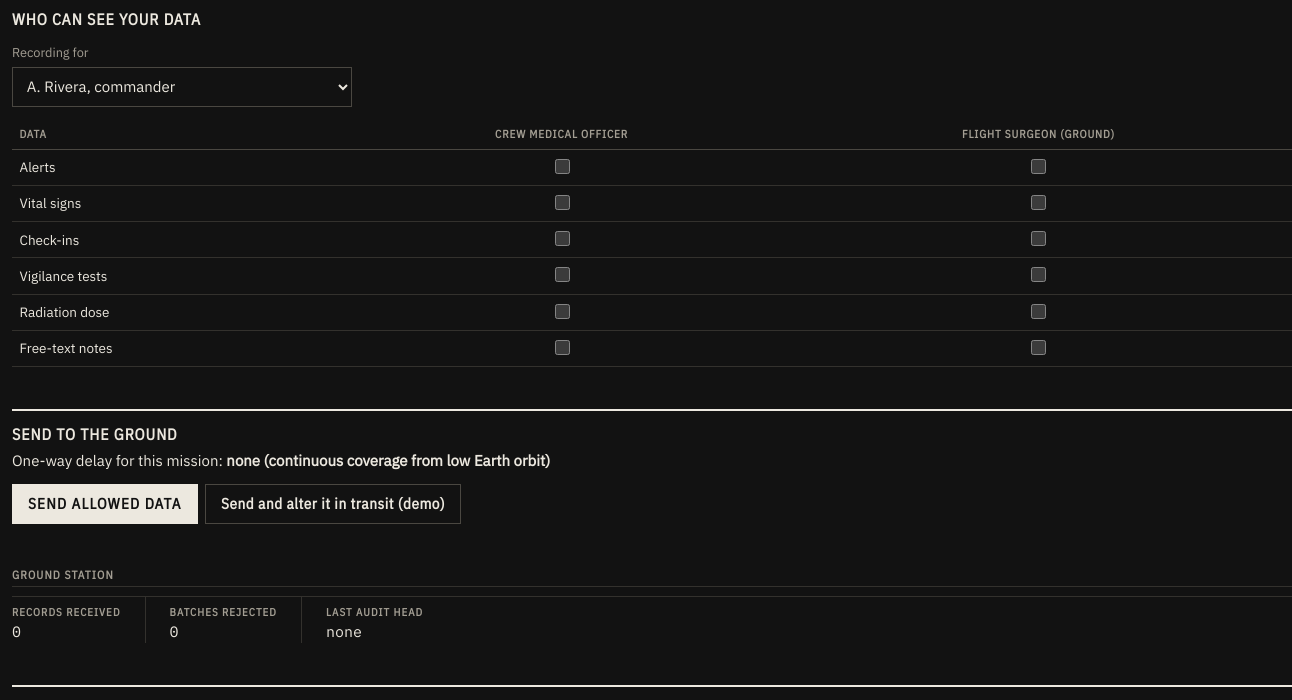
Test: privacy and sync › sends allowed data, which the ground verifies, and audits every step
Click the checkbox named "Share Check-ins with Flight surgeon (ground)".
click(1039, 239)  # box top-left (1031, 231), bottom-right (1046, 246)
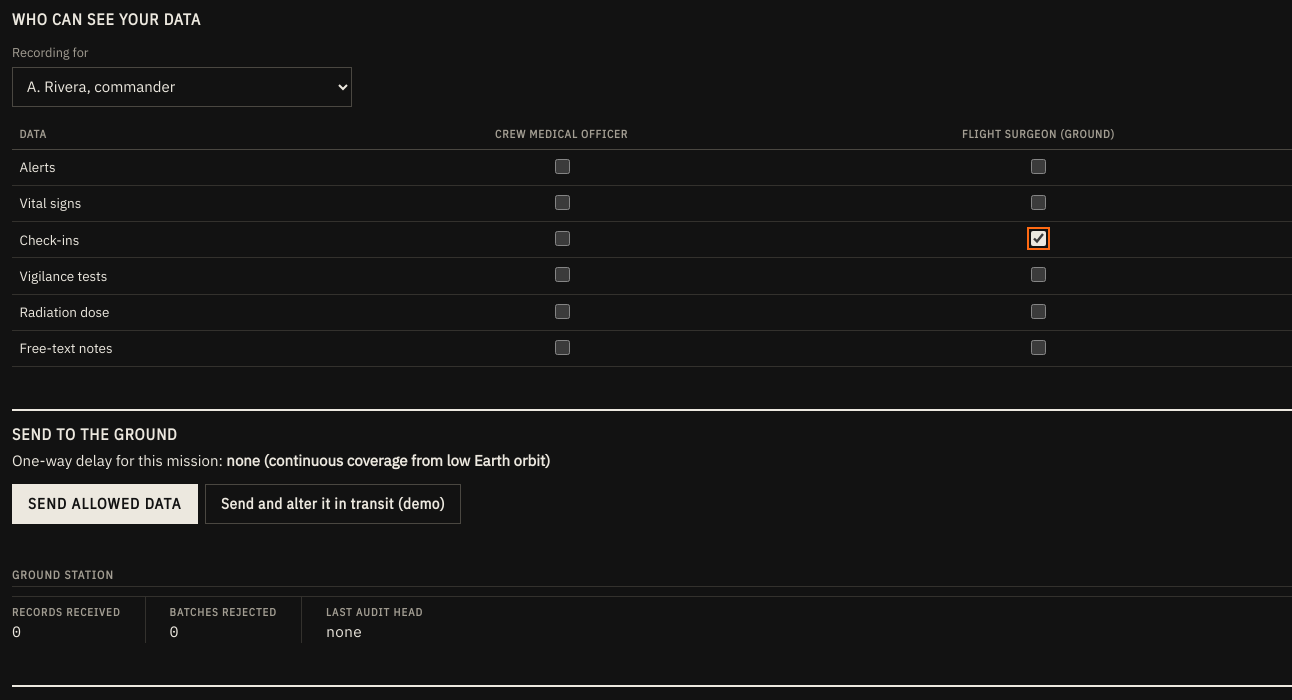
Click the button "Send allowed data".
click(105, 504)  # box top-left (12, 484), bottom-right (198, 524)
(page scrolled)
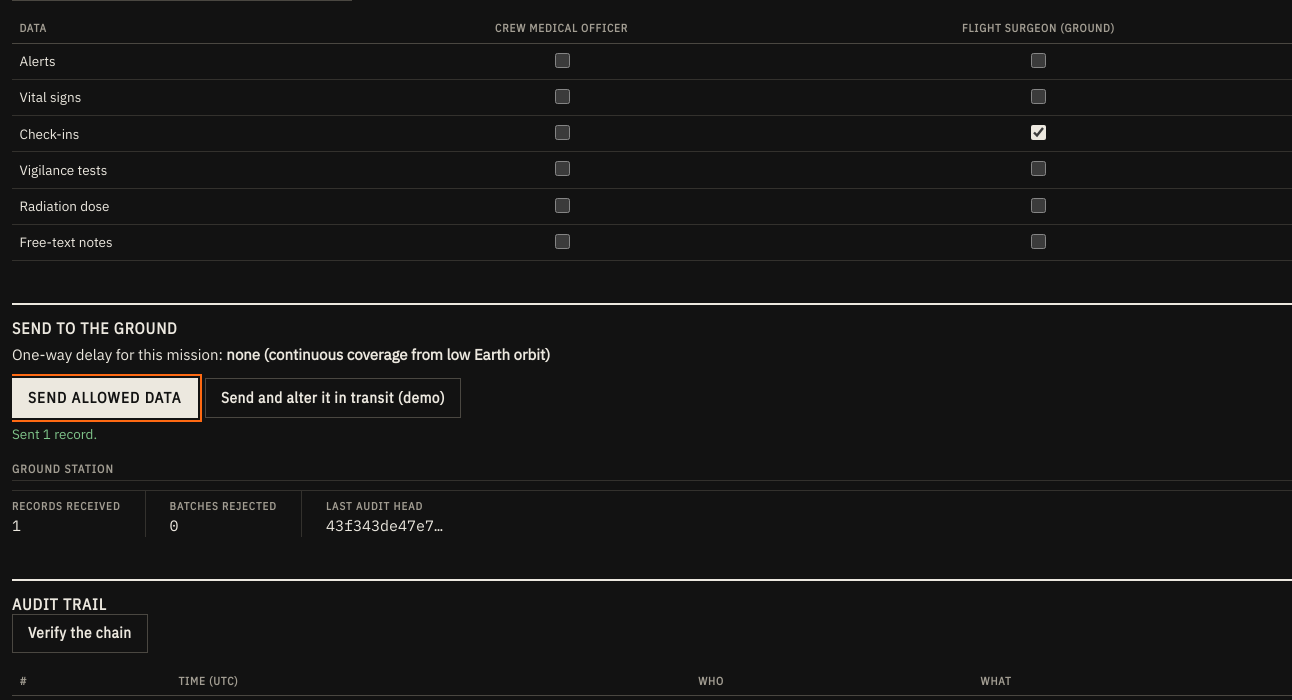
expect the text "0" is shown: met, box top-left (170, 516), bottom-right (178, 535)
expect the text "1" is shown: met, box top-left (12, 516), bottom-right (21, 535)
Click the button "Verify the chain".
click(80, 633)  # box top-left (12, 614), bottom-right (148, 653)
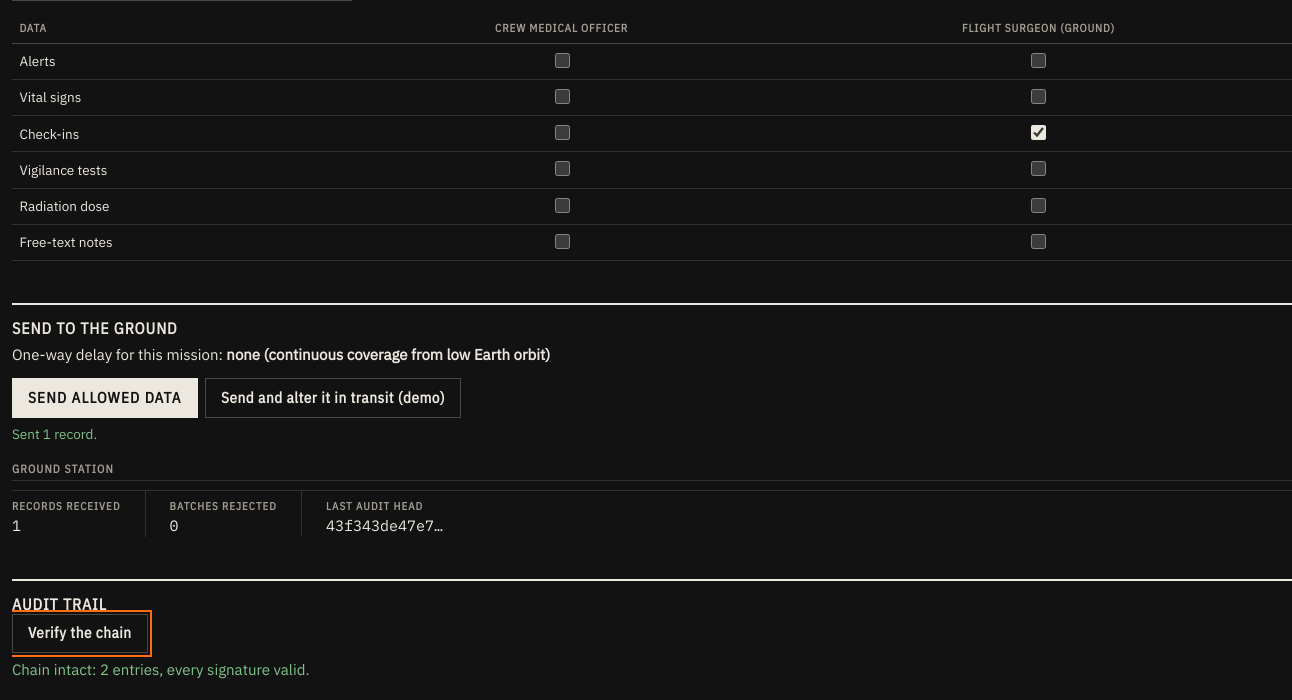
expect the text "Chain intact: 2 entries, every signature valid." is shown: met, box top-left (12, 660), bottom-right (310, 679)
